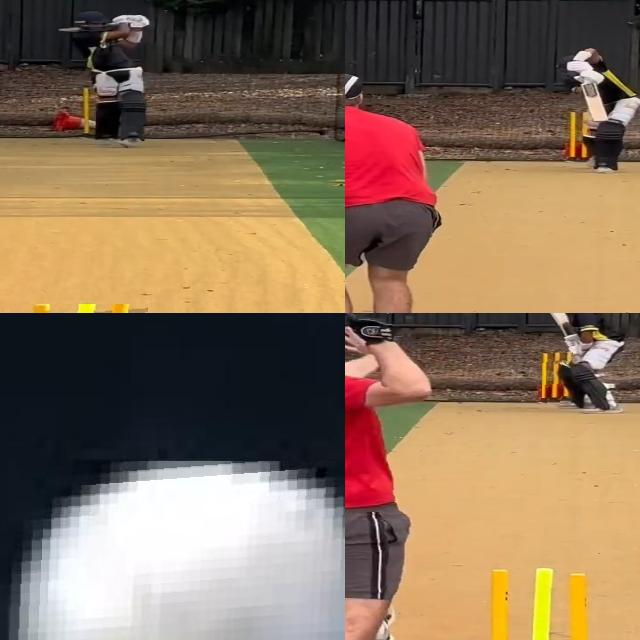Cricket ball: (9, 461, 345, 640)
Stumps: (472, 567, 606, 640), (542, 351, 573, 406)
